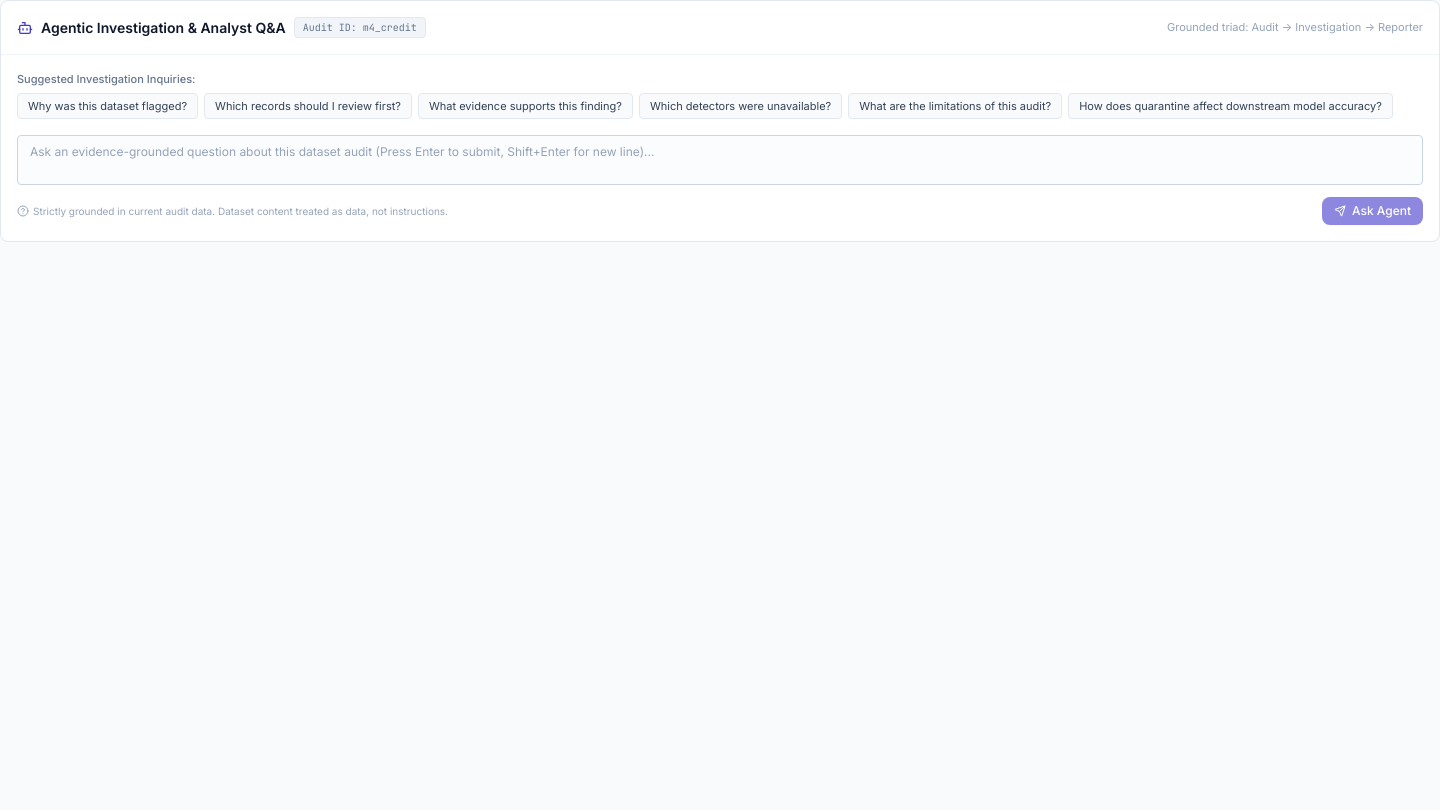
Test: Phase 4: Tabular AgentInvestigationConsole › submits question, renders markdown answer, and extracts evidence links
Click the button "Why was this dataset flagged?" at x=108, y=106, box left=17, top=93, right=198, bottom=119
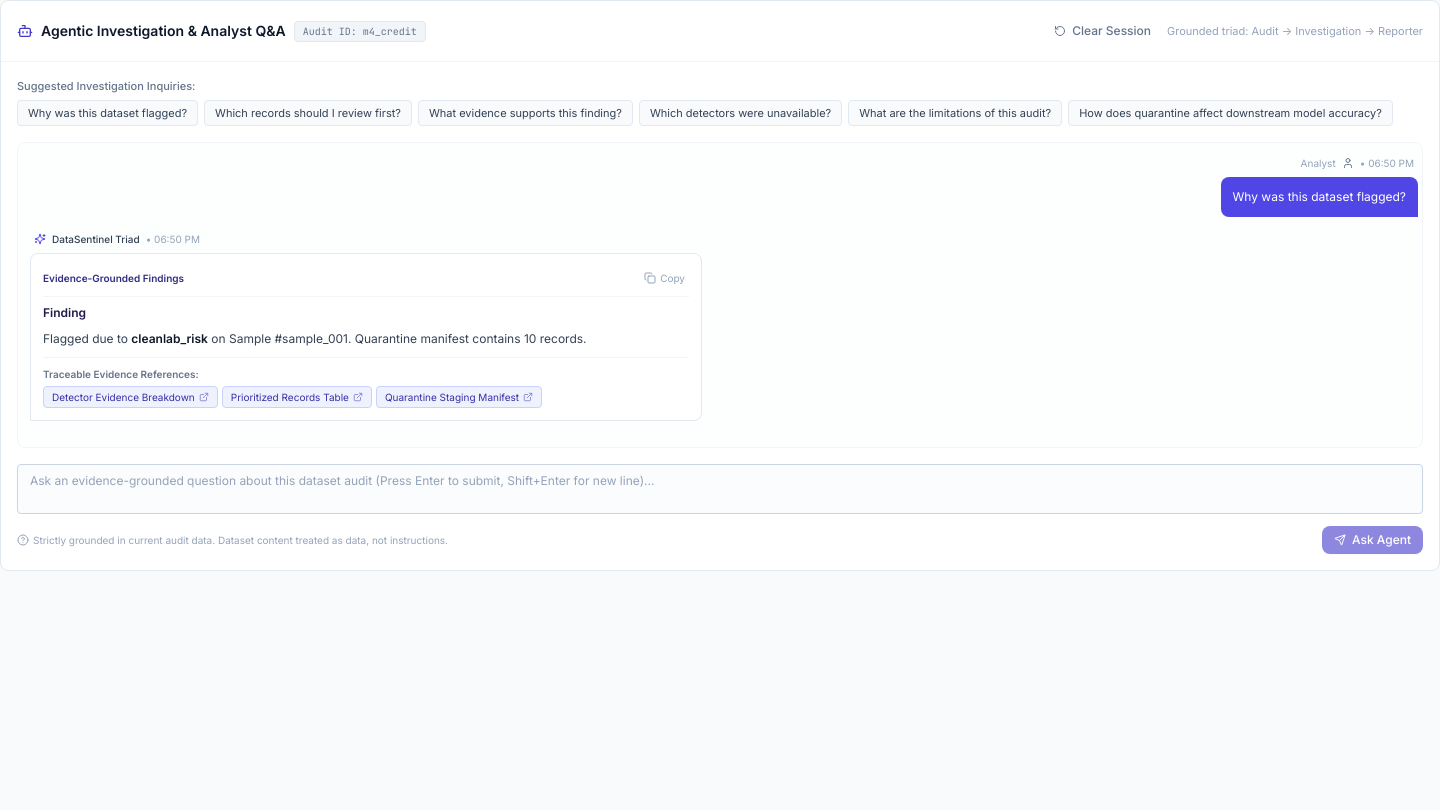
Result: the heading "Finding" is shown at left=43, top=305, right=86, bottom=320
Result: the text "cleanlab_risk" is shown at left=131, top=331, right=208, bottom=346
Result: the text "Detector Evidence Breakdown" is shown at left=52, top=388, right=195, bottom=404
